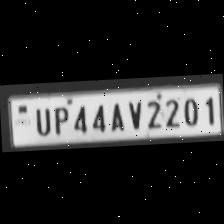0: (178, 93, 200, 126)
1: (200, 93, 218, 125)
2: (142, 95, 162, 129), (160, 94, 180, 128)
4: (68, 100, 88, 134), (86, 100, 106, 132)
A: (105, 98, 125, 132)
P: (48, 102, 70, 134)
U: (31, 102, 52, 135)
V: (122, 96, 142, 130)
